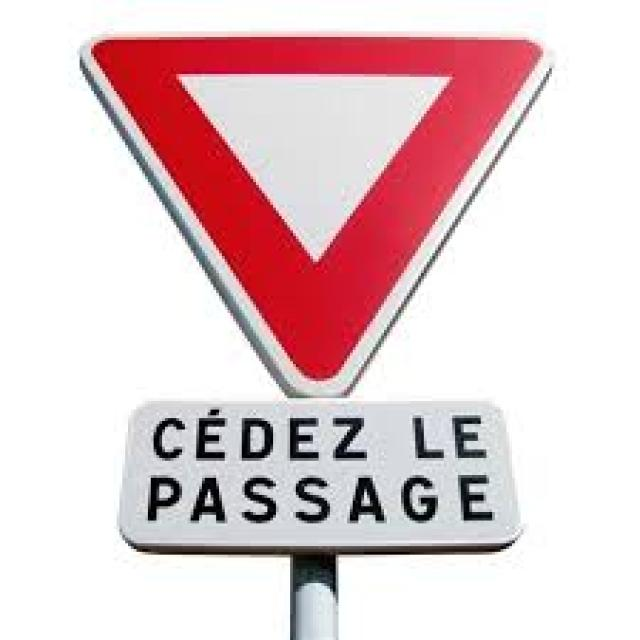Ceder-le-Passage: (77, 30, 558, 395)
